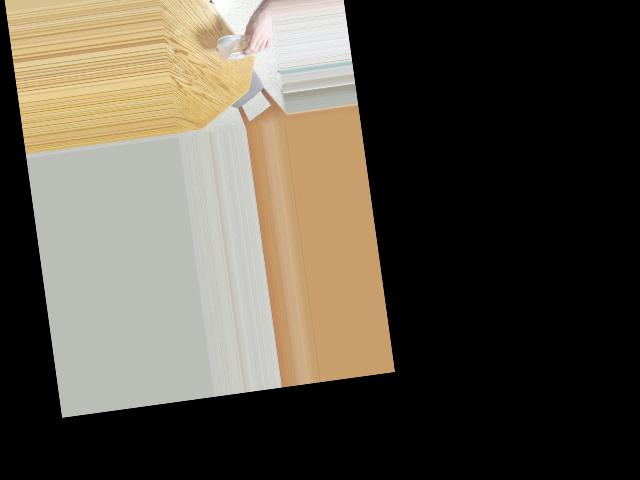cheese: (210, 22, 261, 68)
